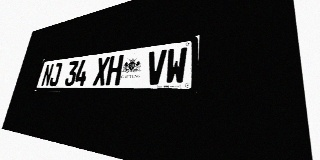3: (64, 60, 79, 86)
4: (74, 59, 90, 86)
H: (105, 55, 124, 85)
J: (48, 62, 63, 86)
N: (41, 64, 54, 86)
V: (145, 49, 167, 85)
W: (164, 47, 188, 84)
X: (93, 56, 110, 86)
